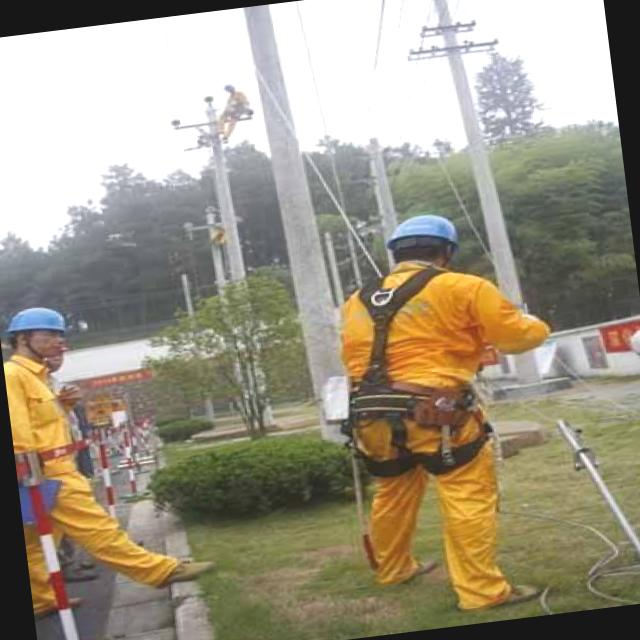helmet: (376, 204, 474, 254), (2, 302, 67, 340)
vest: (330, 261, 550, 412), (6, 357, 100, 508)
